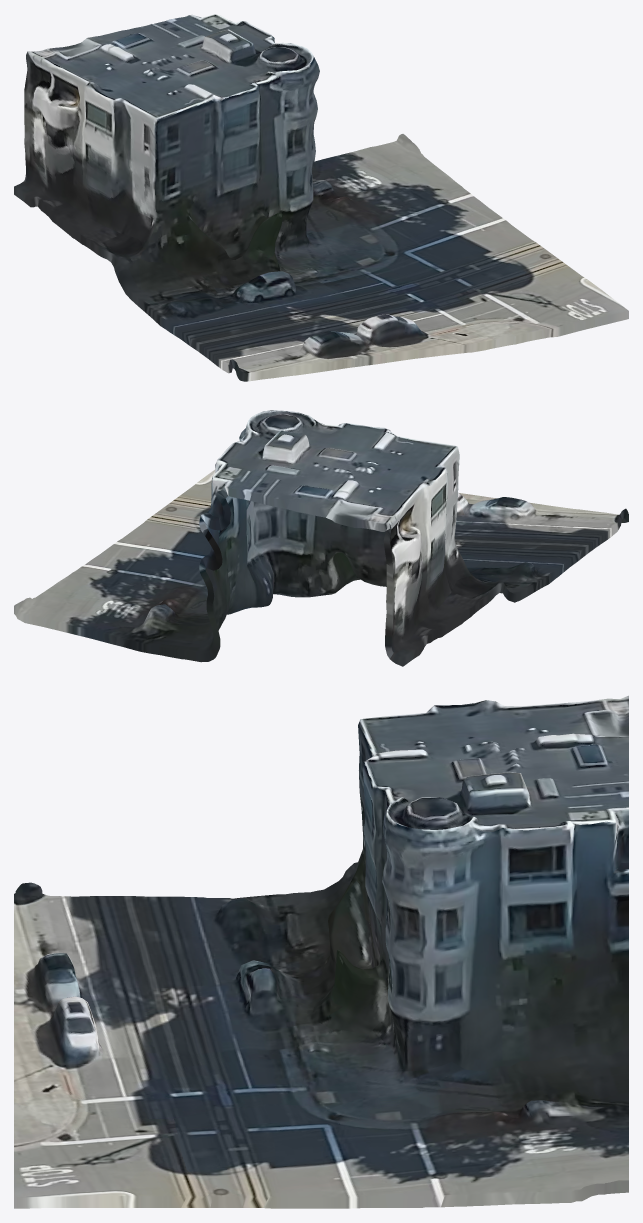
File: z20-167734-405197-h0-yup-uvflip-v3-world.glb
The picture shows the model from 3 angles, top to bottom: view 1: azimuth 30°, elevation 25°; view 2: azimuth 150°, elevation 25°; view 3: azimuth 270°, elevation 25°; orthographic projection. The views are drawn at different scales.
Size of the model in its own units: 30.16 by 15.44 by 30.32.
Materials: 1 (1 with a texture image).
